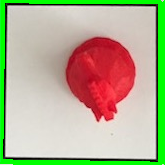Red Knight: (60, 32, 143, 125)
